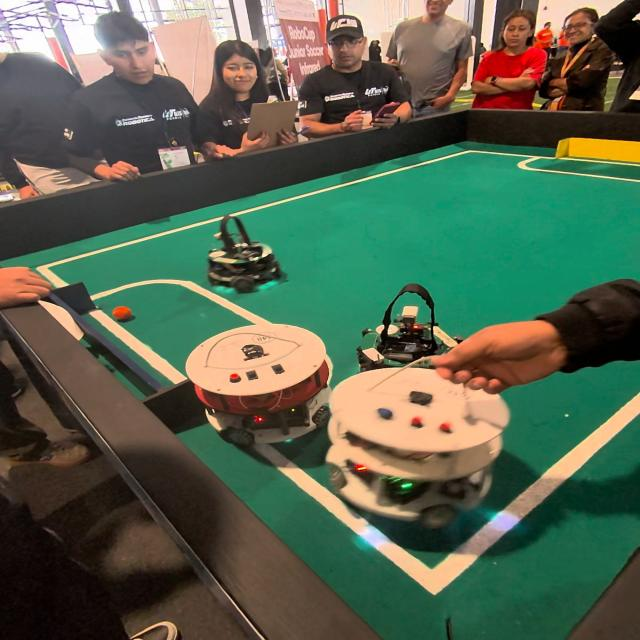Robot: (326, 310, 514, 540), (201, 307, 339, 444), (364, 284, 458, 371), (204, 211, 284, 296)
pelota: (111, 306, 132, 322)
